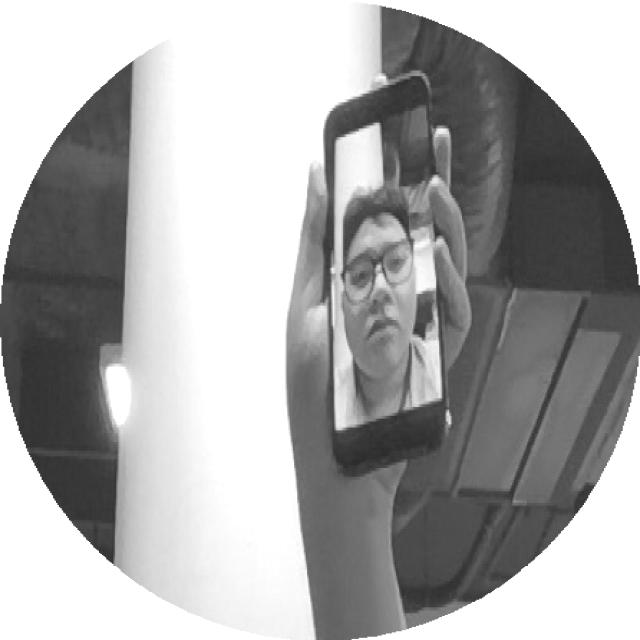fake: (293, 64, 509, 496), (312, 66, 468, 489)
